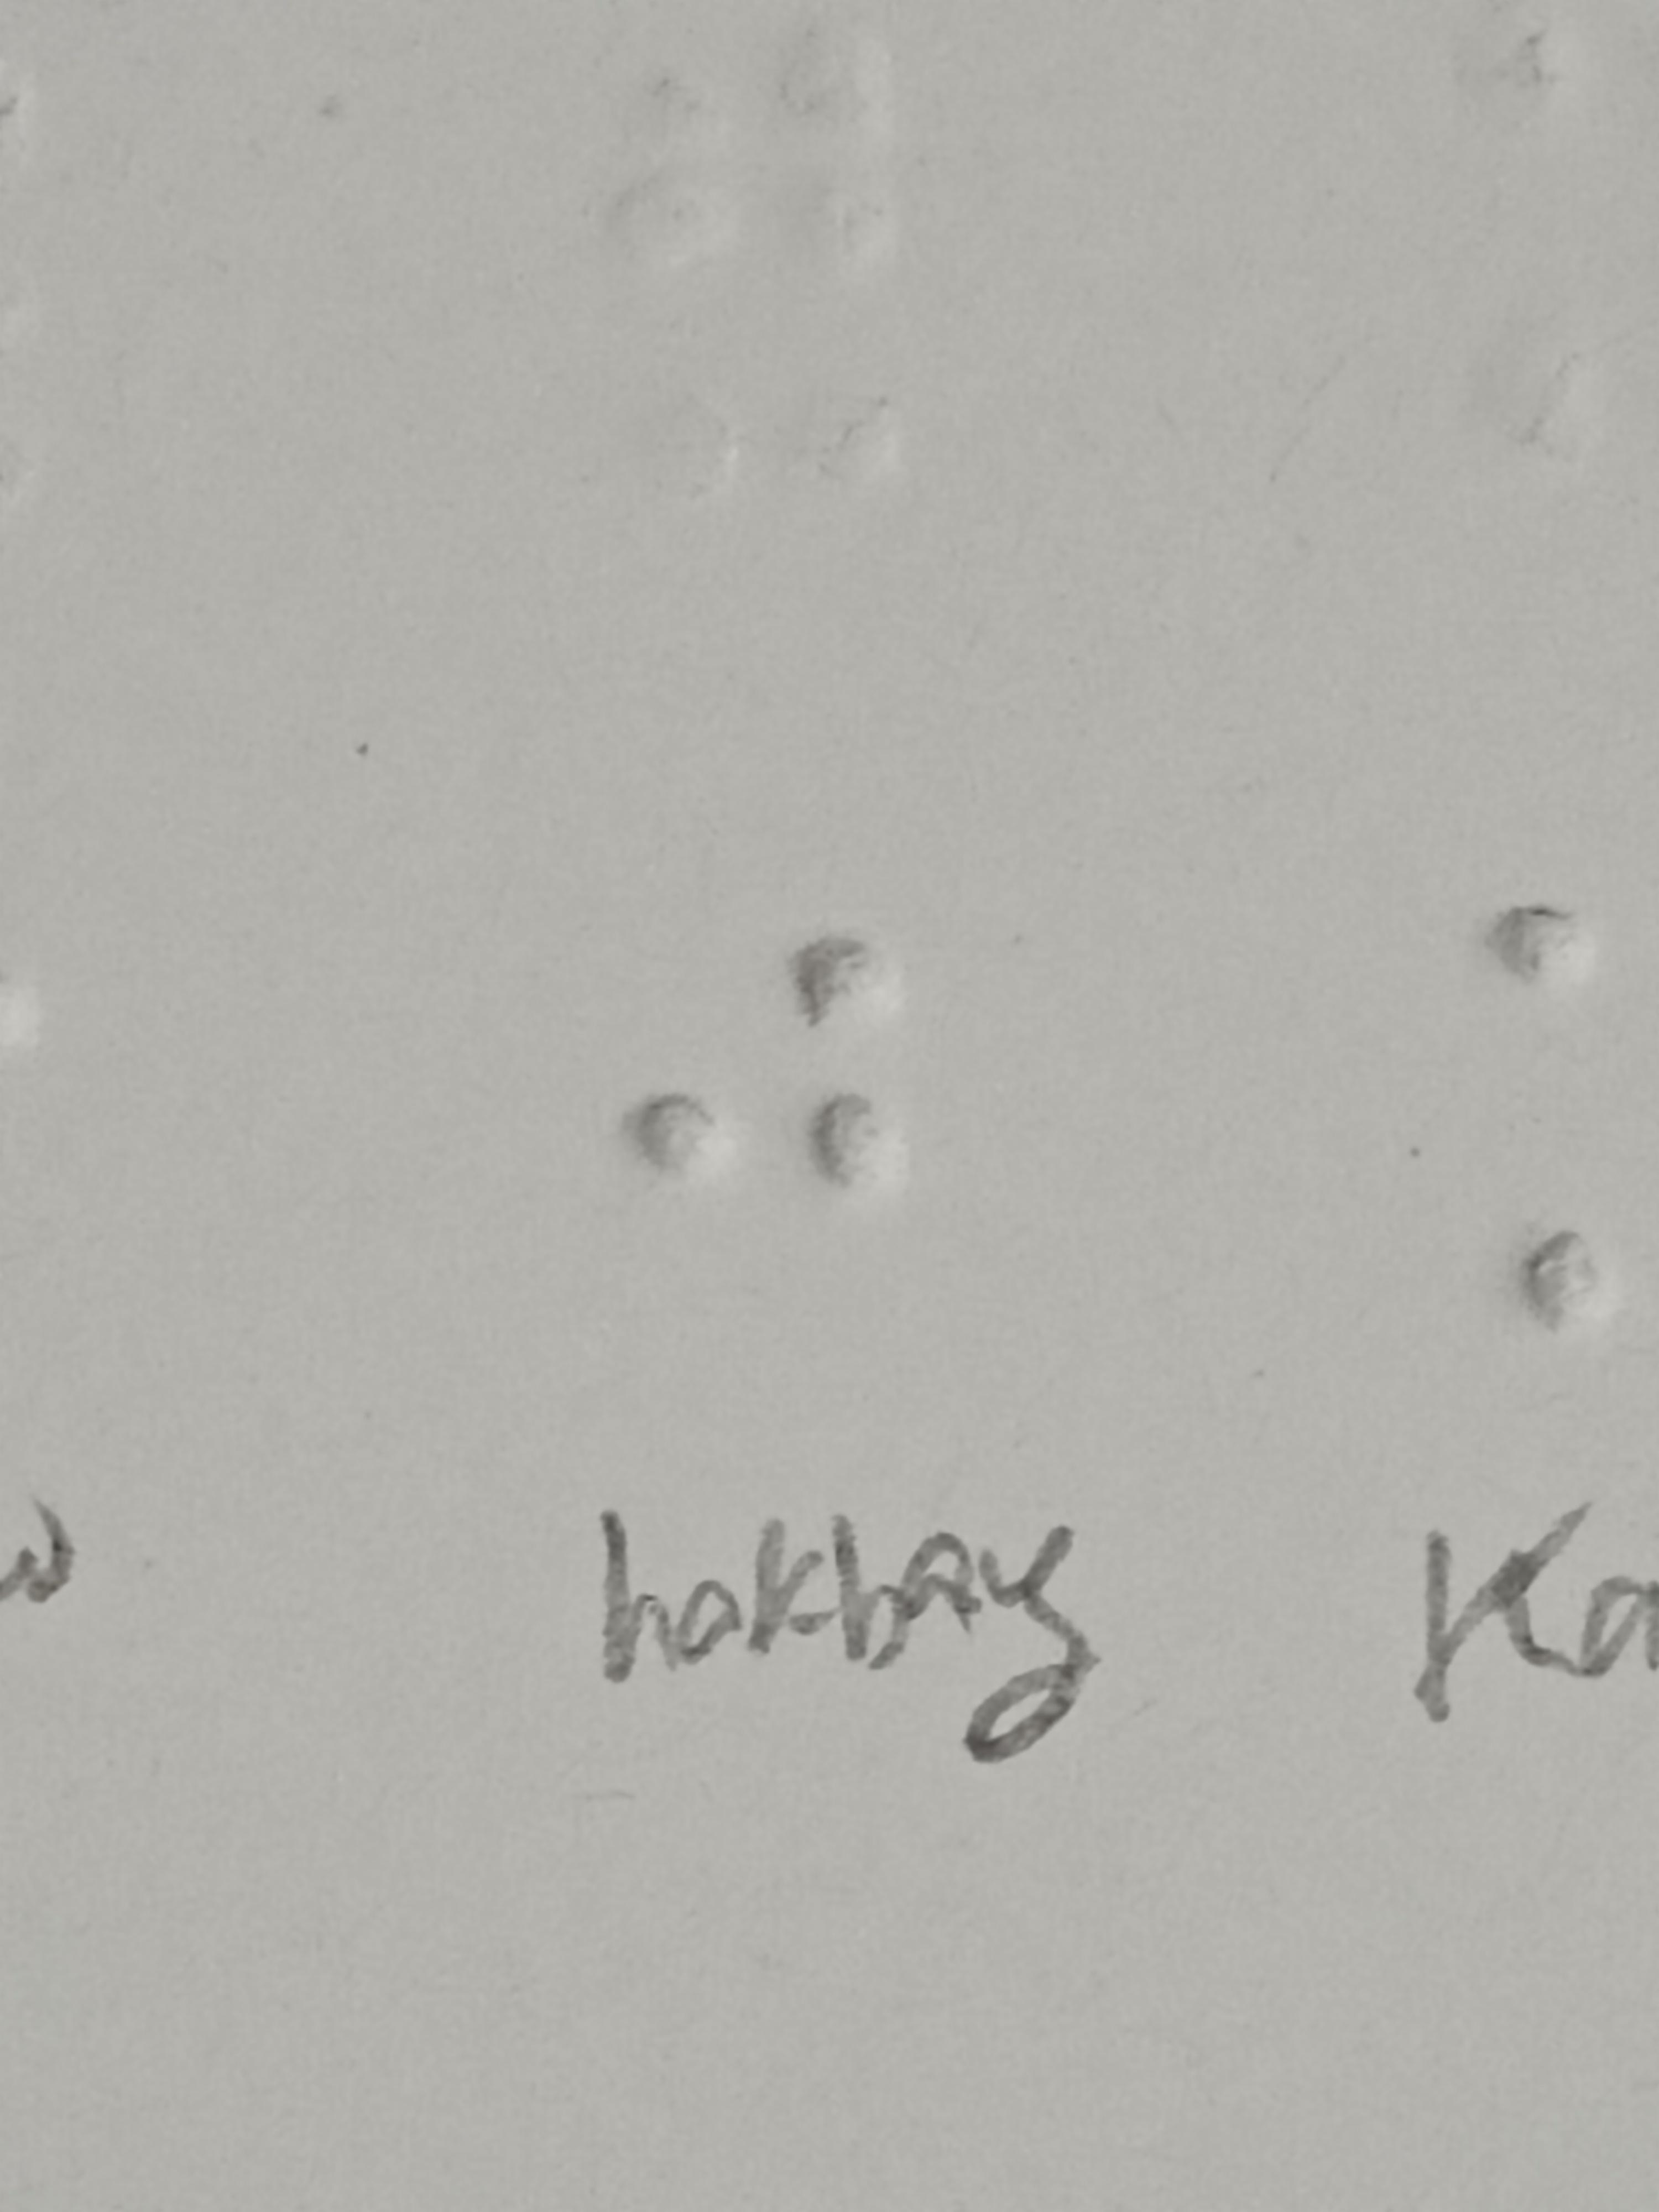one_cell_alphabet_hakbang: (631, 925, 899, 1388)
